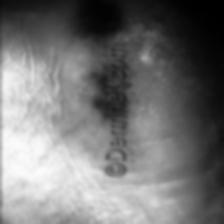Toxin: (65, 0, 105, 128), (124, 8, 152, 130)
